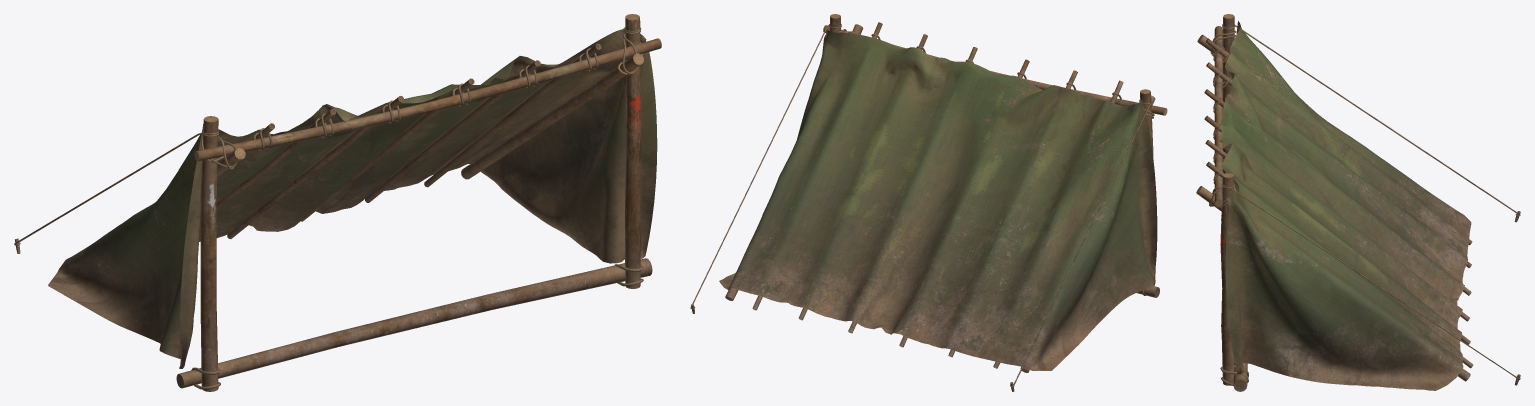
The model's file is forest_hut_gameready.glb.
3 renders of one model, left to right at view 1: azimuth 30°, elevation 25°; view 2: azimuth 150°, elevation 25°; view 3: azimuth 270°, elevation 25°, orthographic. The views are drawn at different scales.
Visible parts, largest first — view 1: ForestHut; view 2: ForestHut; view 3: ForestHut.
Part boxes in pixels (x1,y1,x2,y2): ForestHut: [14, 14, 661, 391]; ForestHut: [690, 14, 1167, 391]; ForestHut: [1196, 14, 1520, 391].
Bounding box in the file's own units: 2.92 × 1.62 × 2.24.
Materials: 1 (1 with a texture image).
